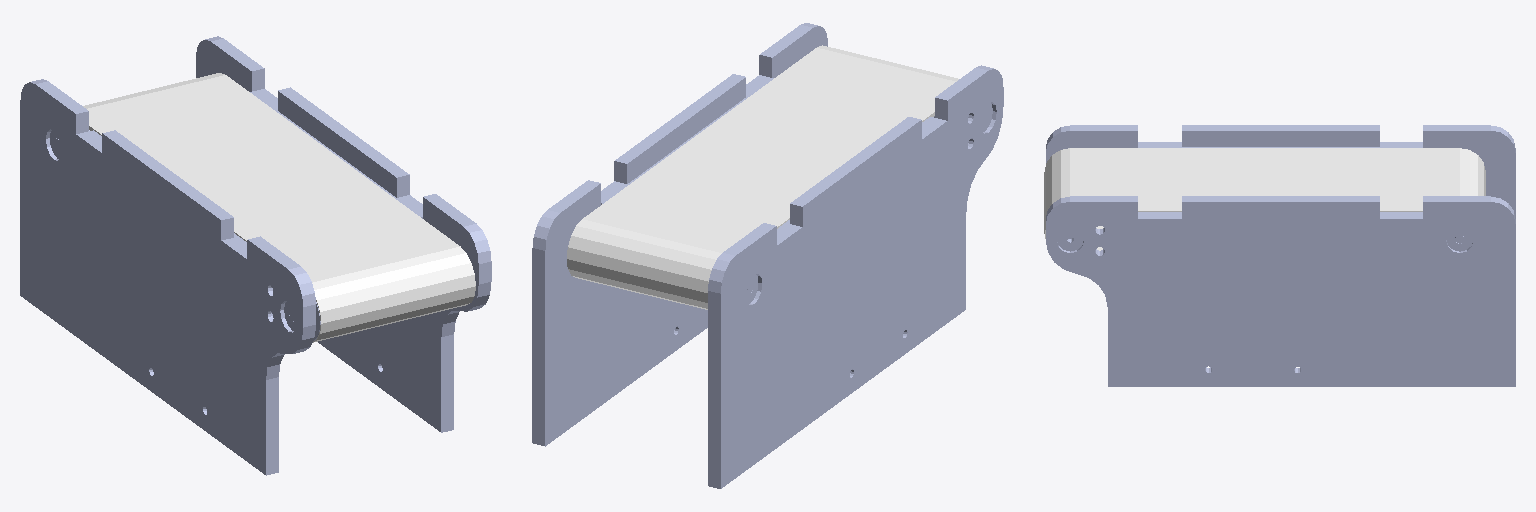
URDF robot description (conveyor_belt_model2):
<?xml version="1.0" encoding="utf-8"?>
<!-- This URDF was automatically created by SolidWorks to URDF Exporter! Originally created by [author] ([email redacted]) 
     Commit Version: 1.6.0-1-g15f4949  Build Version: 1.6.7594.29634
     For more information, please see http://wiki.ros.org/sw_urdf_exporter -->
<robot
  name="conveyor_belt_model2">
  <link
    name="base_link_convey2">
    <inertial>
      <origin
        xyz="-0.00043474 0.026209 -0.060514"
        rpy="0 0 0" />
      <mass
        value="1.3" />
      <inertia
        ixx="0.014356"
        ixy="2.186E-19"
        ixz="1.0113E-20"
        iyy="0.0026741"
        iyz="0.00050569"
        izz="0.012149" />
    </inertial>
    <visual>
      <origin
        xyz="0 0 0"
        rpy="0 0 0" />
      <geometry>
        <mesh
          filename="package://conveyor_belt_model2/meshes/base_link_convey2.STL" />
      </geometry>
      <material
        name="">
        <color
          rgba="0.79216 0.81961 0.93333 1" />
      </material>
    </visual>
    <collision>
      <origin
        xyz="0 0 0"
        rpy="0 0 0" />
      <geometry>
        <mesh
          filename="package://conveyor_belt_model2/meshes/base_link_convey2.STL" />
      </geometry>
    </collision>
  </link>
  <link
    name="convey2_motor_link">
    <inertial>
      <origin
        xyz="-0.070043 0.00025674 -6.4407E-05"
        rpy="0 0 0" />
      <mass
        value="0.3" />
      <inertia
        ixx="5.027E-05"
        ixy="2.9505E-09"
        ixz="-7.4016E-10"
        iyy="0.00035614"
        iyz="2.2671E-11"
        izz="0.00035614" />
    </inertial>
    <visual>
      <origin
        xyz="0 0 0"
        rpy="0 0 0" />
      <geometry>
        <mesh
          filename="package://conveyor_belt_model2/meshes/convey2_motor_link.STL" />
      </geometry>
      <material
        name="">
        <color
          rgba="0.79216 0.81961 0.93333 1" />
      </material>
    </visual>
    <collision>
      <origin
        xyz="0 0 0"
        rpy="0 0 0" />
      <geometry>
        <mesh
          filename="package://conveyor_belt_model2/meshes/convey2_motor_link.STL" />
      </geometry>
    </collision>
  </link>
  <joint
    name="convey2_motor_joint"
    type="continuous">
    <origin
      xyz="0.069565 -0.15776 -0.020936"
      rpy="0 0 0" />
    <parent
      link="base_link_convey2" />
    <child
      link="convey2_motor_link" />
    <axis
      xyz="-1 0 0" />
    <limit
      lower="-3.14"
      upper="3.14"
      effort="100"
      velocity="2.2" />
  </joint>
  <link
    name="convey2_another_link">
    <inertial>
      <origin
        xyz="-0.07 2.2204E-15 -6.2866E-15"
        rpy="0 0 0" />
      <mass
        value="0.3" />
      <inertia
        ixx="5.0271E-05"
        ixy="-1.0048E-20"
        ixz="-2.5529E-22"
        iyy="0.00035694"
        iyz="3.288E-21"
        izz="0.00035694" />
    </inertial>
    <visual>
      <origin
        xyz="0 0 0"
        rpy="0 0 0" />
      <geometry>
        <mesh
          filename="package://conveyor_belt_model2/meshes/convey2_another_link.STL" />
      </geometry>
      <material
        name="">
        <color
          rgba="0.79216 0.81961 0.93333 1" />
      </material>
    </visual>
    <collision>
      <origin
        xyz="0 0 0"
        rpy="0 0 0" />
      <geometry>
        <mesh
          filename="package://conveyor_belt_model2/meshes/convey2_another_link.STL" />
      </geometry>
    </collision>
  </link>
  <joint
    name="convey2_another_joint"
    type="continuous">
    <origin
      xyz="0.069565 0.1575 -0.021"
      rpy="0 0 0" />
    <parent
      link="base_link_convey2" />
    <child
      link="convey2_another_link" />
    <axis
      xyz="-1 0 0" />
    <limit
      lower="-3.14"
      upper="3.14"
      effort="100"
      velocity="2.2" />
  </joint>
  <link
    name="convey2_belt_link">
    <inertial>
      <origin
        xyz="0 0 0"
        rpy="0 0 0" />
      <mass
        value="0.5" />
      <inertia
        ixx="0"
        ixy="0"
        ixz="0"
        iyy="0"
        iyz="0"
        izz="0" />
    </inertial>
    <visual>
      <origin
        xyz="0 0 0"
        rpy="0 0 0" />
      <geometry>
        <mesh
          filename="package://conveyor_belt_model2/meshes/convey2_belt_link.STL" />
      </geometry>
      <material
        name="">
        <color
          rgba="1 1 1 1" />
      </material>
    </visual>
    <collision>
      <origin
        xyz="0 0 0"
        rpy="0 0 0" />
      <geometry>
        <mesh
          filename="package://conveyor_belt_model2/meshes/convey2_belt_link.STL" />
      </geometry>
    </collision>
  </link>
  <joint
    name="convey2_belt_joint"
    type="fixed">
    <origin
      xyz="0 0 0"
      rpy="0 0 0" />
    <parent
      link="base_link_convey2" />
    <child
      link="convey2_belt_link" />
    <axis
      xyz="0 0 0" />
    <limit
      lower="0"
      upper="0"
      effort="10"
      velocity="2.2" />
  </joint>
</robot>

--- Render facts (derived) ---
The picture shows the robot from 3 angles, left to right: view 1: azimuth 30°, elevation 25°; view 2: azimuth 150°, elevation 25°; view 3: azimuth 270°, elevation 25°; orthographic projection.
Model conveyor_belt_model2 with 4 links and 3 joints (2 continuous, 1 fixed), rooted at base_link_convey2, posed all joints at 0.
Links seen in each view (by area): view 1: base_link_convey2, convey2_belt_link; view 2: base_link_convey2, convey2_belt_link; view 3: base_link_convey2, convey2_belt_link.
Link boxes in pixels (box(x1,y1,x2,y2)): base_link_convey2: box(20, 36, 491, 475); convey2_belt_link: box(83, 73, 475, 342); base_link_convey2: box(532, 23, 1003, 488); convey2_belt_link: box(567, 45, 958, 309); base_link_convey2: box(1046, 125, 1515, 386); convey2_belt_link: box(1044, 148, 1485, 250).
Bounding box of the posed robot: 0.146 × 0.381 × 0.165 m (x, y, z).
4 mesh visuals loaded from 4 distinct referenced files (4 binary STL).